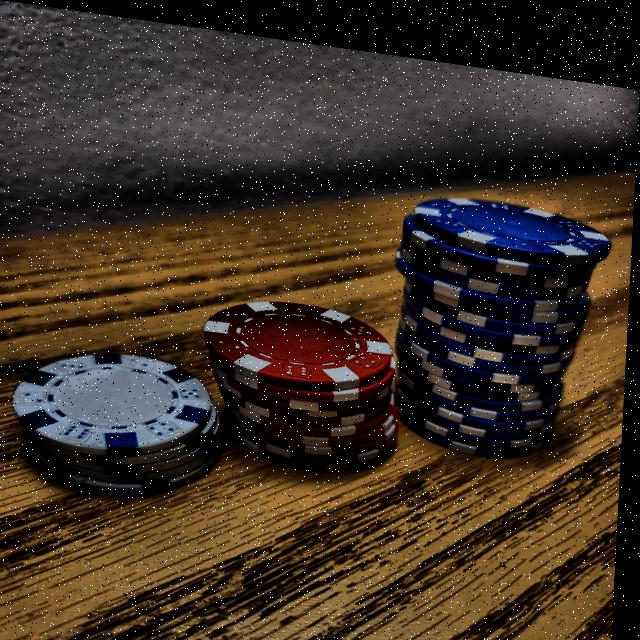Chip: (365, 152, 619, 482), (189, 261, 411, 492), (10, 308, 248, 520)
